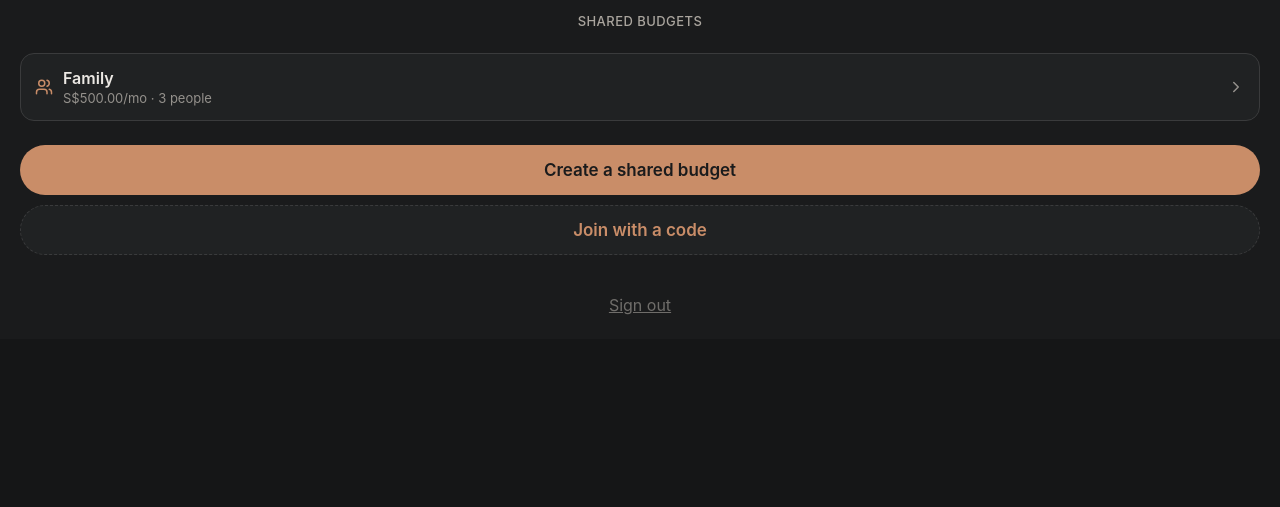
it: BudgetList › explains why an unnamed budget cannot be created instead of disabling the button
This screenshot has width=1280, height=507.
Click the button "Create a shared budget": (640, 170) [20,145,1260,195]
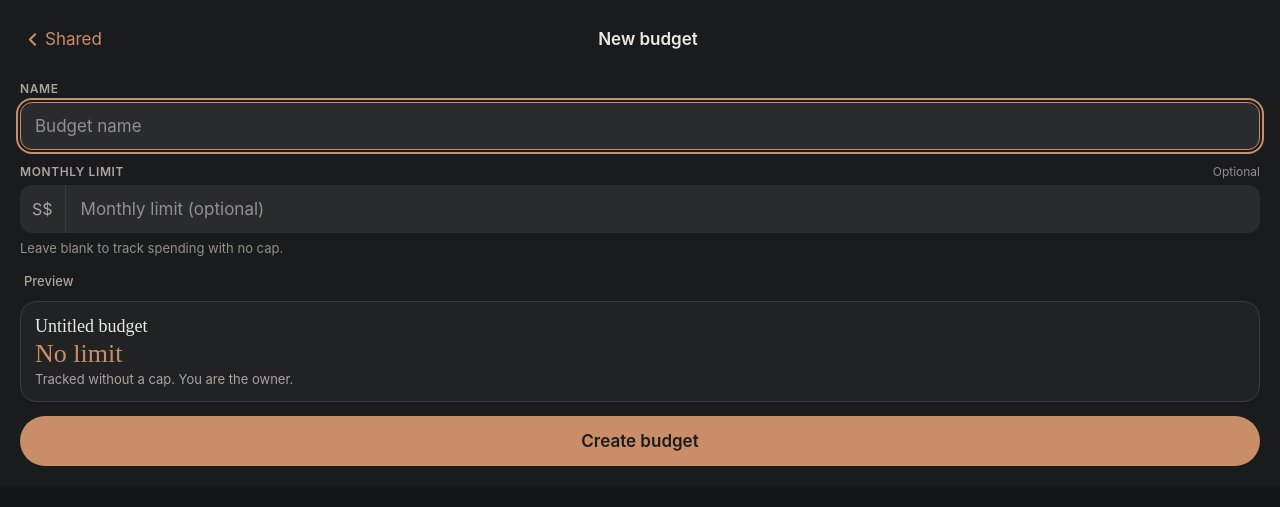
Click the button "Create budget": (640, 441) [20,416,1260,466]
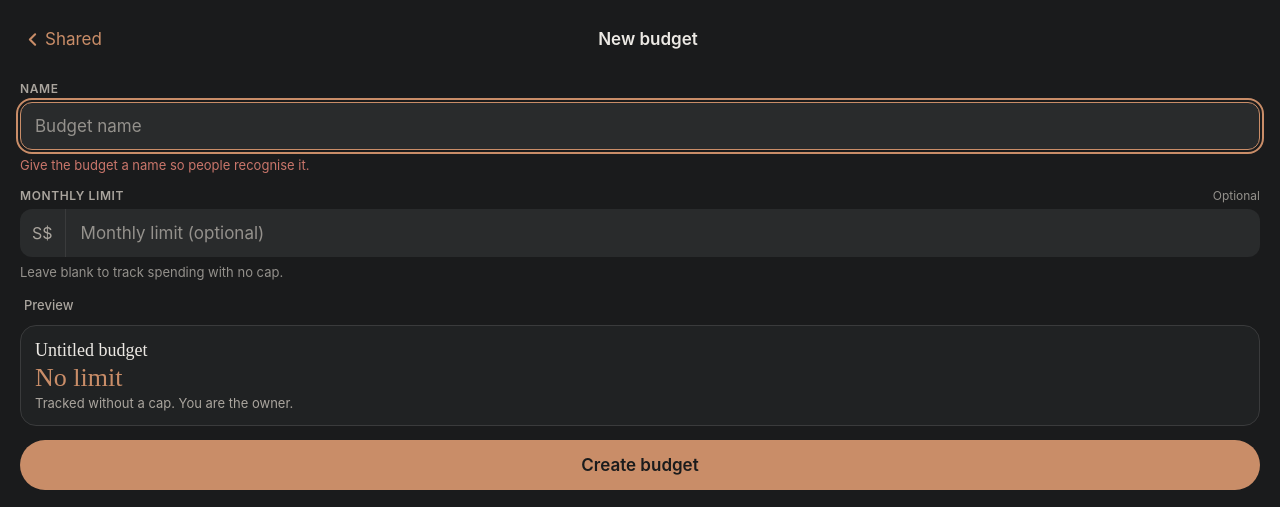
Expected: the text "Give the budget a name so people recognise it." is shown, [20,157,310,173]
